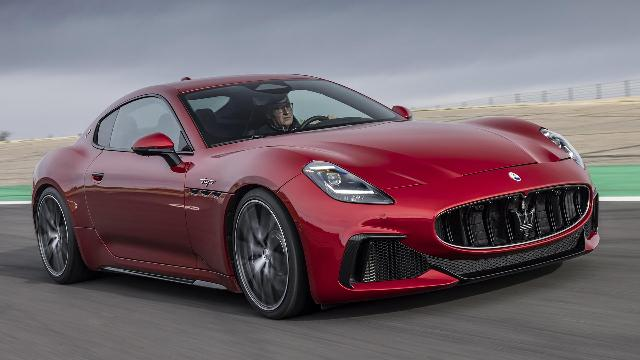maserati: (31, 74, 599, 320)
